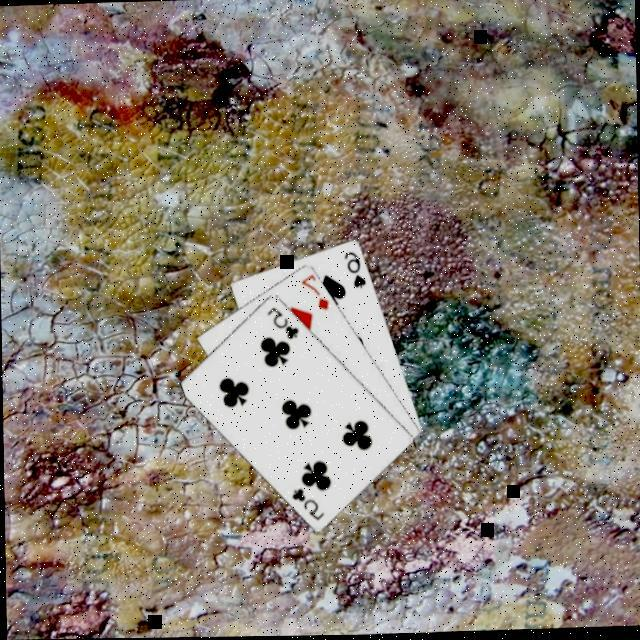5C: (288, 486, 328, 525), (264, 304, 302, 344)
6S: (341, 252, 370, 294)
7D: (298, 273, 332, 316)
